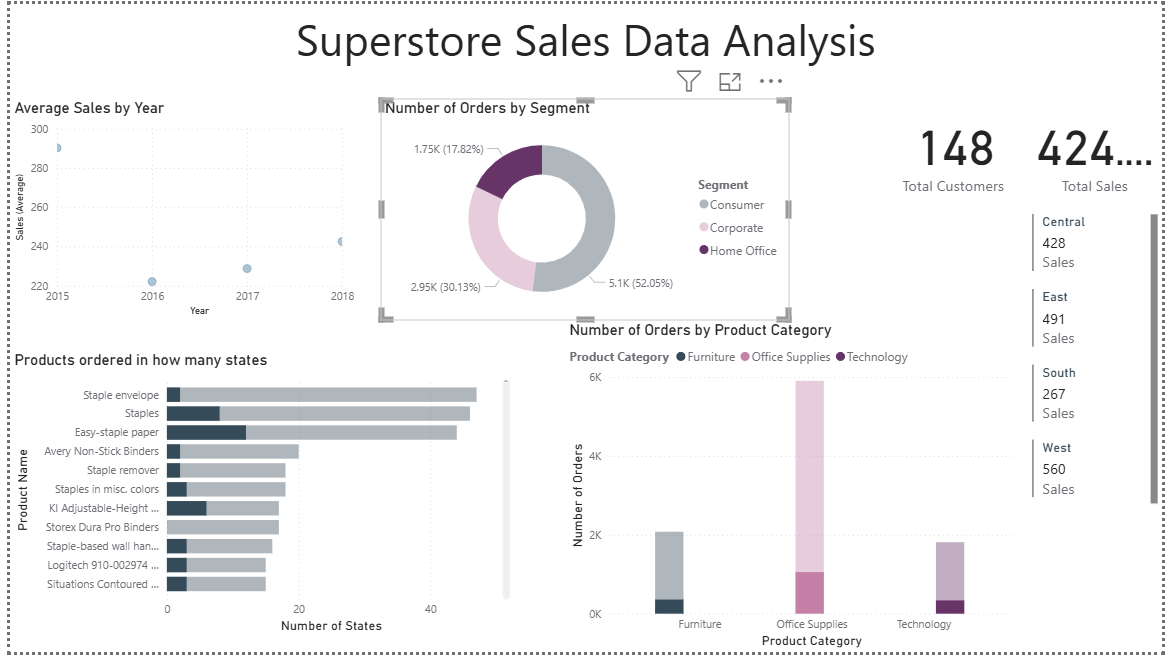

The page's visual inventory and layout, read from the dashboard file:
{"tool":"powerbi","page":{"name":"Page 1","canvas":[1280,720],"ordinal":0},"visuals":[{"type":"scatterChart","title":"Average Sales by Year","fields":{"Y":["Avg(train.Sales)"],"X":["train.Order Year"]},"box":[0,105,386.7,246.7],"z":0},{"type":"card","fields":{"Values":["Count(train.Customer ID)"]},"box":[970,105,160,116.7],"z":1000},{"type":"clusteredBarChart","title":"Products ordered in how many states","fields":{"Category":["train.Product Name"],"Y":["CountNonNull(train.State)"]},"box":[0,385,560,318.3],"z":2000},{"type":"multiRowCard","fields":{"Values":["train.Region","CountNonNull(train.Sales (bins))"]},"box":[1130,228.3,150,343.3],"z":3000},{"type":"clusteredColumnChart","title":"Number of Orders by Product Category ","fields":{"Category":["train.Category","train.Sub-Category"],"Y":["CountNonNull(train.Order ID)"],"Series":["train.Category"]},"box":[616.7,351.7,503.3,368.3],"z":4000},{"type":"card","fields":{"Values":["Sum(train.Sales)"]},"box":[1130,105,150,116.7],"z":5000},{"type":"donutChart","fields":{"Series":["train.Segment"],"Y":["CountNonNull(train.Order ID)"]},"box":[411.7,105,455,246.7],"z":6000},{"type":"textbox","box":[0,0,1280,81.7],"z":7000}]}

Visuals, with their boxes in screenshot pixels (x1, y1, x2, y2), scaled from the page's 1280x720 canvas onto the 1174x659 screenshot:
"Average Sales by Year" scatterChart: box=[0, 96, 355, 322]
card - Count(train.Customer ID): box=[890, 96, 1036, 203]
"Products ordered in how many states" clusteredBarChart: box=[0, 352, 514, 644]
multiRowCard - train.Region x CountNonNull(train.Sales (bins)): box=[1036, 209, 1173, 523]
"Number of Orders by Product Category " clusteredColumnChart: box=[566, 322, 1027, 658]
card - Sum(train.Sales): box=[1036, 96, 1173, 203]
donutChart - train.Segment x CountNonNull(train.Order ID): box=[378, 96, 795, 322]
textbox: box=[0, 0, 1173, 75]
